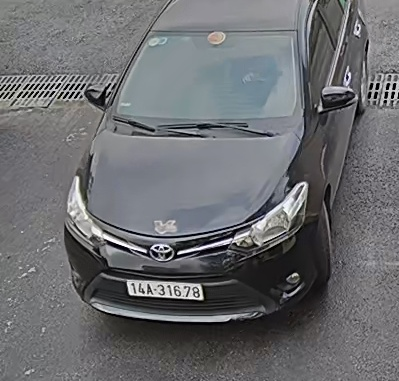vehicle plate: (122, 276, 207, 306)
